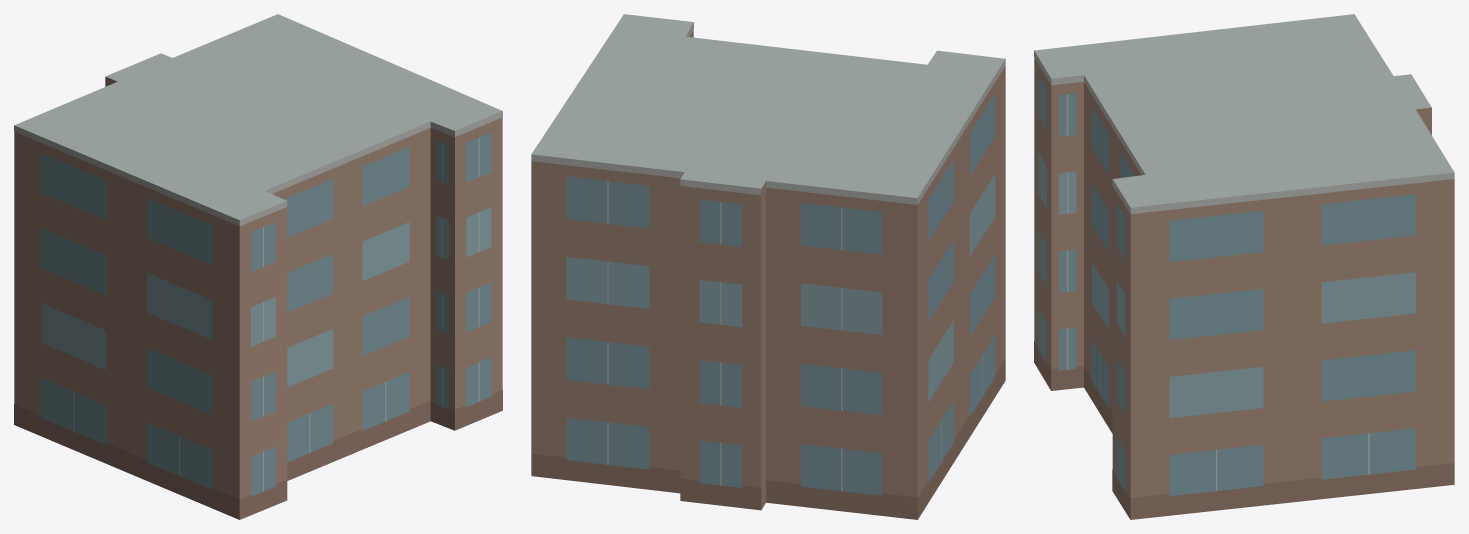
The model's file is survey-upis-32930628.glb.
The picture shows the model from 3 angles, left to right: view 1: azimuth 30°, elevation 25°; view 2: azimuth 150°, elevation 25°; view 3: azimuth 270°, elevation 25°; orthographic projection. The views are drawn at different scales.
Parts seen in each view (by area): view 1: survey-upis-32930628.tmp; view 2: survey-upis-32930628.tmp; view 3: survey-upis-32930628.tmp.
Part boxes in pixels (bbox=[...]): survey-upis-32930628.tmp: bbox=[14, 14, 502, 519]; survey-upis-32930628.tmp: bbox=[531, 14, 1005, 519]; survey-upis-32930628.tmp: bbox=[1034, 14, 1454, 519].
Bounding box in the file's own units: 15.73 × 11.81 × 14.43.
